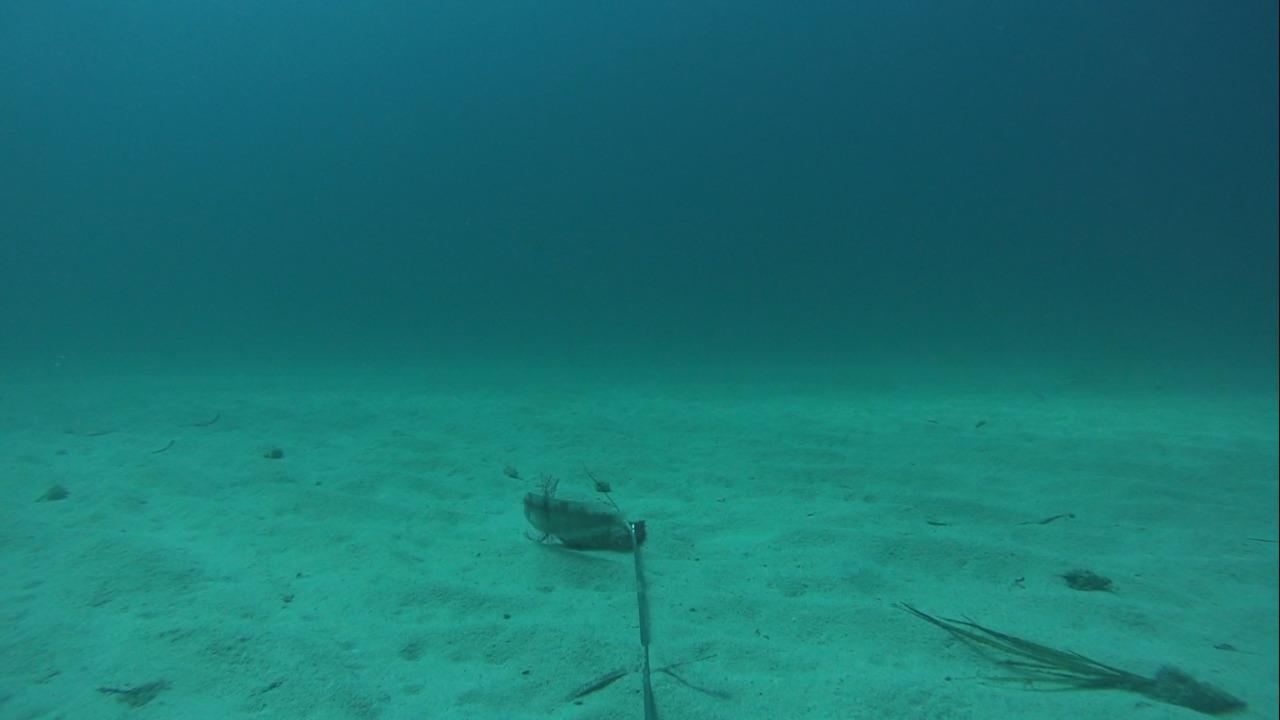raor: (513, 488, 628, 550)
